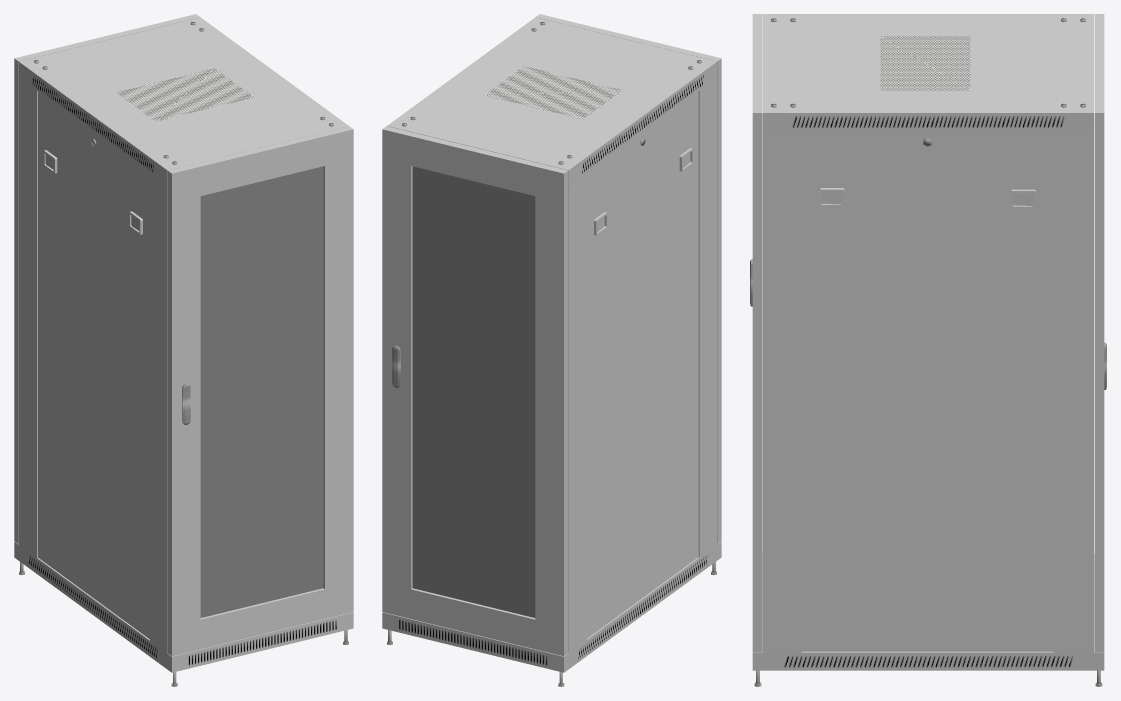
File: RKAG32.fbx
3 renders of one model, left to right at view 1: azimuth 30°, elevation 25°; view 2: azimuth 150°, elevation 25°; view 3: azimuth 270°, elevation 25°, orthographic. The views are drawn at different scales.
Visible parts, largest first — view 1: frontdoor, Box135, RKAG32, backdoor; view 2: backdoor, Box135, RKAG32, frontdoor; view 3: RKAG32, Box135, frontdoor, backdoor.
Part boxes in pixels (<box>): frontdoor: <box>167,126,353,656</box>; Box135: <box>14,17,353,686</box>; RKAG32: <box>38,92,149,638</box>; backdoor: <box>14,14,200,543</box>; backdoor: <box>382,126,568,656</box>; Box135: <box>382,17,721,686</box>; RKAG32: <box>587,91,698,638</box>; frontdoor: <box>536,14,721,543</box>; RKAG32: <box>801,131,1053,651</box>; Box135: <box>752,14,1104,686</box>; frontdoor: <box>750,14,762,652</box>; backdoor: <box>1094,14,1106,652</box>.
Size of the model in its own units: 610 by 1627 by 913.
Materials: 6 (5 with a texture image).
